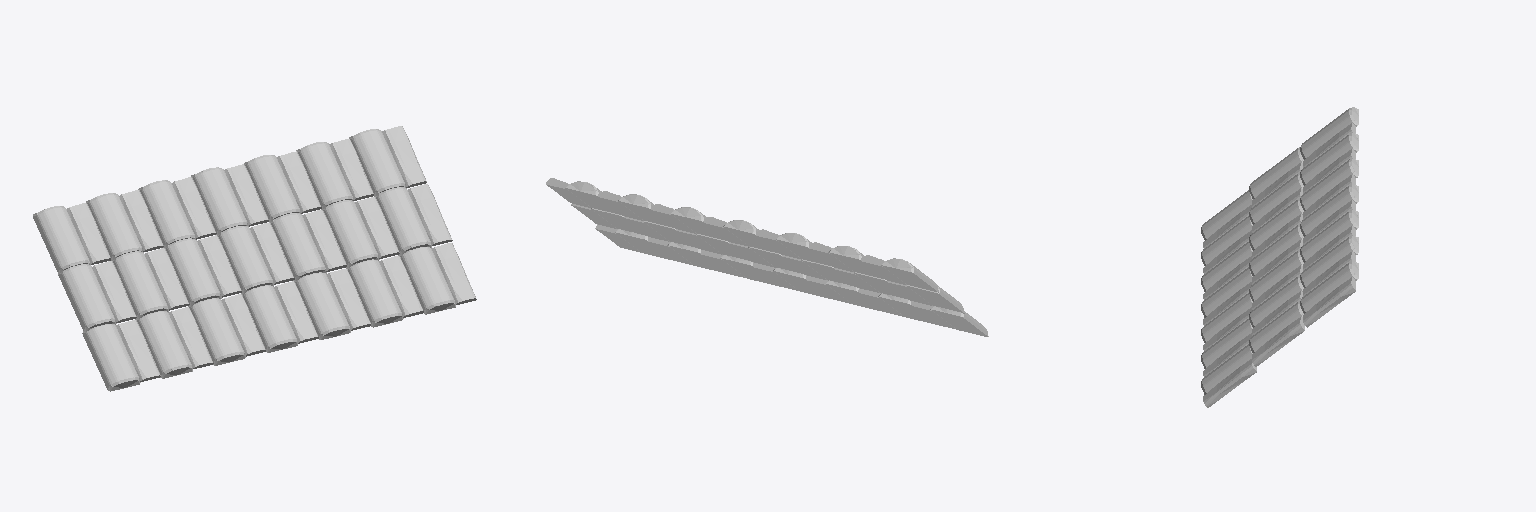
File: siderooftiles_uv.obj
The picture shows the model from 3 angles: view 1: azimuth 30°, elevation 25°; view 2: azimuth 150°, elevation 25°; view 3: azimuth 270°, elevation 25°; orthographic projection.
Parts seen in each view (by area): view 1: SideShelterRoofTiles SideShelterRoof MainBuilding RoofTile98, SideShelterRoofTiles SideShelterRoof MainBuilding RoofTile107, SideShelterRoofTiles SideShelterRoof MainBuilding RoofTile116, SideShelterRoofTiles SideShelterRoof MainBuilding RoofTile103, SideShelterRoofTiles SideShelterRoof MainBuilding RoofTile100, SideShelterRoofTiles SideShelterRoof MainBuilding RoofTile99, RoofTile104 SideShelterRoofTiles SideShelterRoof MainBuilding, SideShelterRoofTiles SideShelterRoof MainBuilding RoofTile101, SideShelterRoofTiles SideShelterRoof MainBuilding RoofTile102, SideShelterRoofTiles SideShelterRoof MainBuilding RoofTile108, SideShelterRoofTiles SideShelterRoof MainBuilding RoofTile110, SideShelterRoofTiles SideShelterRoof MainBuilding RoofTile112 (+9 smaller); view 2: SideShelterRoofTiles SideShelterRoof MainBuilding RoofTile116, SideShelterRoofTiles SideShelterRoof MainBuilding RoofTile98, SideShelterRoofTiles SideShelterRoof MainBuilding RoofTile120, SideShelterRoofTiles SideShelterRoof MainBuilding RoofTile119, SideShelterRoofTiles SideShelterRoof MainBuilding RoofTile121, SideShelterRoofTiles SideShelterRoof MainBuilding RoofTile122, SideShelterRoofTiles SideShelterRoof MainBuilding RoofTile117, SideShelterRoofTiles SideShelterRoof MainBuilding RoofTile118, SideShelterRoofTiles SideShelterRoof MainBuilding RoofTile107, SideShelterRoofTiles SideShelterRoof MainBuilding RoofTile99, SideShelterRoofTiles SideShelterRoof MainBuilding RoofTile102, RoofTile104 SideShelterRoofTiles SideShelterRoof MainBuilding (+9 smaller); view 3: SideShelterRoofTiles SideShelterRoof MainBuilding RoofTile122, SideShelterRoofTiles SideShelterRoof MainBuilding RoofTile113, RoofTile104 SideShelterRoofTiles SideShelterRoof MainBuilding, SideShelterRoofTiles SideShelterRoof MainBuilding RoofTile119, SideShelterRoofTiles SideShelterRoof MainBuilding RoofTile118, SideShelterRoofTiles SideShelterRoof MainBuilding RoofTile121, SideShelterRoofTiles SideShelterRoof MainBuilding RoofTile116, SideShelterRoofTiles SideShelterRoof MainBuilding RoofTile117, SideShelterRoofTiles SideShelterRoof MainBuilding RoofTile120, SideShelterRoofTiles SideShelterRoof MainBuilding RoofTile112, SideShelterRoofTiles SideShelterRoof MainBuilding RoofTile109, SideShelterRoofTiles SideShelterRoof MainBuilding RoofTile108 (+9 smaller).
Part boxes in pixels (bbox=[...]): SideShelterRoofTiles SideShelterRoof MainBuilding RoofTile98: bbox=[82, 320, 160, 391]; SideShelterRoofTiles SideShelterRoof MainBuilding RoofTile107: bbox=[58, 261, 136, 332]; SideShelterRoofTiles SideShelterRoof MainBuilding RoofTile116: bbox=[33, 203, 110, 273]; SideShelterRoofTiles SideShelterRoof MainBuilding RoofTile103: bbox=[346, 256, 423, 327]; SideShelterRoofTiles SideShelterRoof MainBuilding RoofTile100: bbox=[188, 294, 265, 365]; SideShelterRoofTiles SideShelterRoof MainBuilding RoofTile99: bbox=[135, 307, 213, 378]; RoofTile104 SideShelterRoofTiles SideShelterRoof MainBuilding: bbox=[398, 243, 476, 314]; SideShelterRoofTiles SideShelterRoof MainBuilding RoofTile101: bbox=[241, 281, 318, 352]; SideShelterRoofTiles SideShelterRoof MainBuilding RoofTile102: bbox=[293, 269, 370, 339]; SideShelterRoofTiles SideShelterRoof MainBuilding RoofTile108: bbox=[113, 248, 189, 319]; SideShelterRoofTiles SideShelterRoof MainBuilding RoofTile110: bbox=[217, 222, 294, 293]; SideShelterRoofTiles SideShelterRoof MainBuilding RoofTile112: bbox=[321, 197, 399, 267]; SideShelterRoofTiles SideShelterRoof MainBuilding RoofTile116: bbox=[861, 255, 938, 292]; SideShelterRoofTiles SideShelterRoof MainBuilding RoofTile98: bbox=[912, 301, 988, 336]; SideShelterRoofTiles SideShelterRoof MainBuilding RoofTile120: bbox=[651, 204, 726, 240]; SideShelterRoofTiles SideShelterRoof MainBuilding RoofTile119: bbox=[704, 217, 779, 253]; SideShelterRoofTiles SideShelterRoof MainBuilding RoofTile121: bbox=[598, 191, 673, 227]; SideShelterRoofTiles SideShelterRoof MainBuilding RoofTile122: bbox=[546, 178, 620, 214]; SideShelterRoofTiles SideShelterRoof MainBuilding RoofTile117: bbox=[808, 242, 883, 278]; SideShelterRoofTiles SideShelterRoof MainBuilding RoofTile118: bbox=[756, 229, 830, 265]; SideShelterRoofTiles SideShelterRoof MainBuilding RoofTile107: bbox=[887, 281, 964, 313]; SideShelterRoofTiles SideShelterRoof MainBuilding RoofTile99: bbox=[859, 289, 935, 324]; SideShelterRoofTiles SideShelterRoof MainBuilding RoofTile102: bbox=[700, 250, 776, 285]; RoofTile104 SideShelterRoofTiles SideShelterRoof MainBuilding: bbox=[595, 224, 671, 259]; SideShelterRoofTiles SideShelterRoof MainBuilding RoofTile122: bbox=[1300, 261, 1358, 327]; SideShelterRoofTiles SideShelterRoof MainBuilding RoofTile113: bbox=[1249, 301, 1304, 366]; RoofTile104 SideShelterRoofTiles SideShelterRoof MainBuilding: bbox=[1201, 344, 1256, 407]; SideShelterRoofTiles SideShelterRoof MainBuilding RoofTile119: bbox=[1300, 184, 1358, 244]; SideShelterRoofTiles SideShelterRoof MainBuilding RoofTile118: bbox=[1300, 159, 1358, 219]; SideShelterRoofTiles SideShelterRoof MainBuilding RoofTile121: bbox=[1300, 236, 1358, 296]; SideShelterRoofTiles SideShelterRoof MainBuilding RoofTile116: bbox=[1300, 107, 1358, 167]; SideShelterRoofTiles SideShelterRoof MainBuilding RoofTile117: bbox=[1300, 133, 1358, 193]; SideShelterRoofTiles SideShelterRoof MainBuilding RoofTile120: bbox=[1300, 210, 1358, 270]; SideShelterRoofTiles SideShelterRoof MainBuilding RoofTile112: bbox=[1249, 276, 1303, 335]; SideShelterRoofTiles SideShelterRoof MainBuilding RoofTile109: bbox=[1249, 199, 1303, 258]; SideShelterRoofTiles SideShelterRoof MainBuilding RoofTile108: bbox=[1249, 173, 1303, 232].
Bounding box in the file's own units: 4.21 × 1.39 × 1.57.